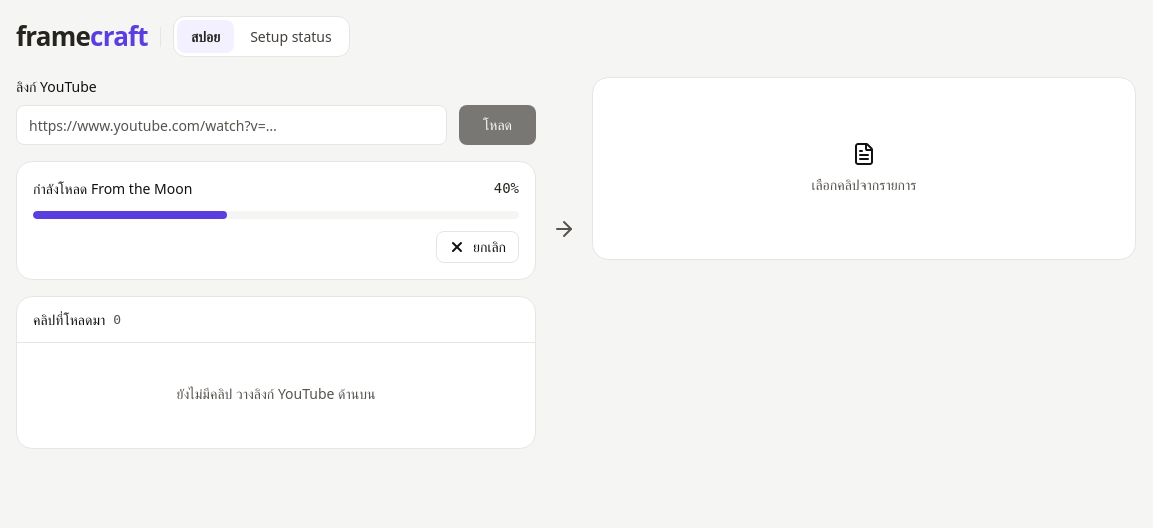
Test: downloading › says the merge can't be cancelled on 409 merging
What coordinates should you click on to do the following:
click the button "ยกเลิก"
I would click on:
 (478, 247)
Its box is [436,231,519,263].
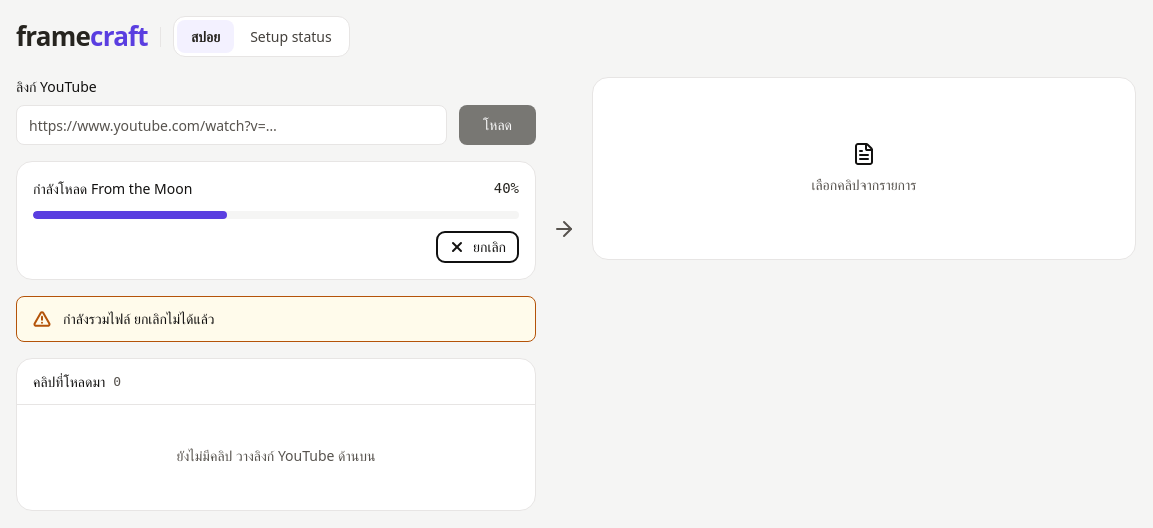
expect the button "กำลังรวมไฟล์ ยกเลิกไม่ได้แล้ว" is shown: met, box [63,309,215,328]
